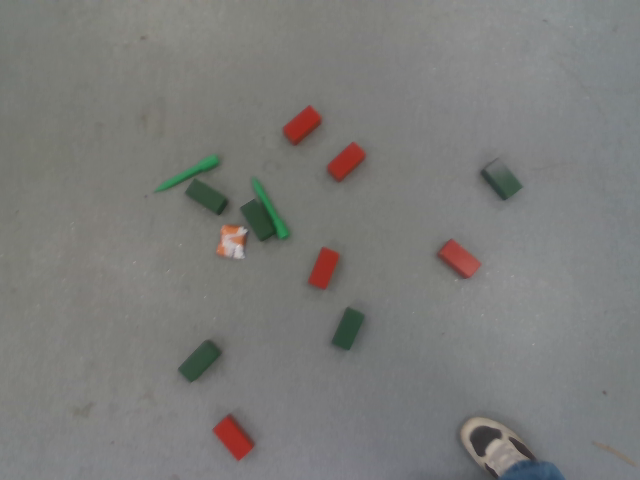Probe: (150, 150, 222, 195), (250, 176, 292, 241)
